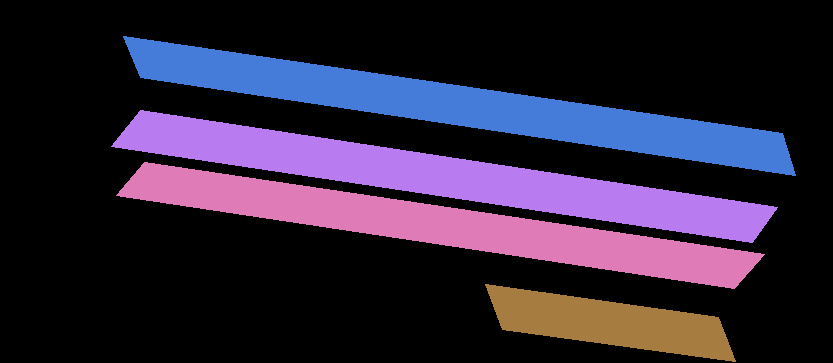parkingspot: (123, 36, 795, 175), (111, 110, 777, 242), (116, 162, 764, 288), (485, 284, 735, 361)
